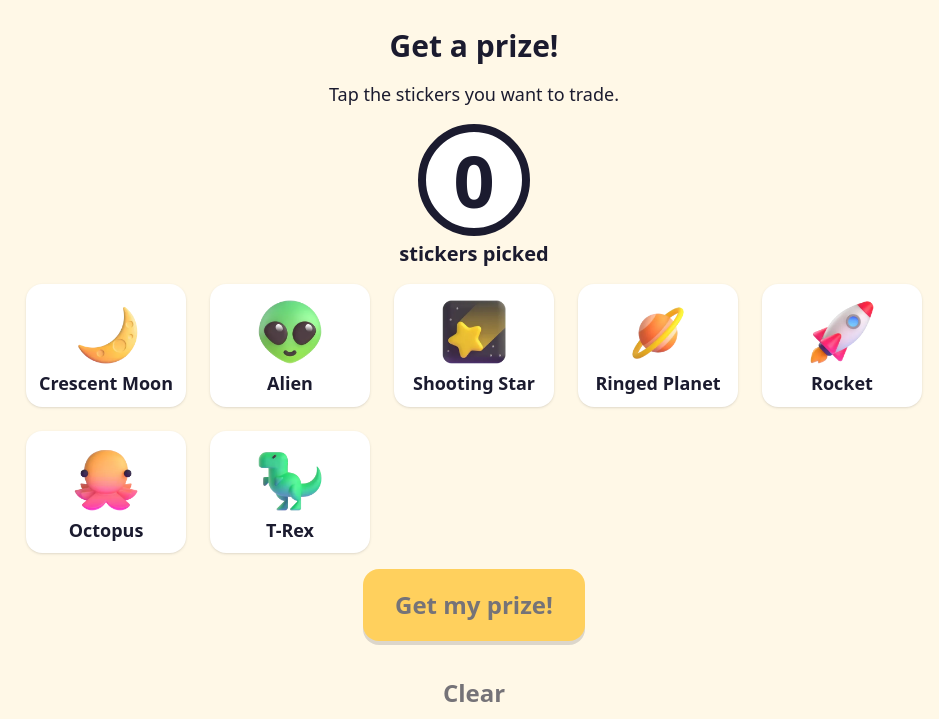
Test: GetPrizeScreen › submits and shows the waiting view
Click the button "Crescent Moon" at x=106, y=345, box [26,284,186,406]
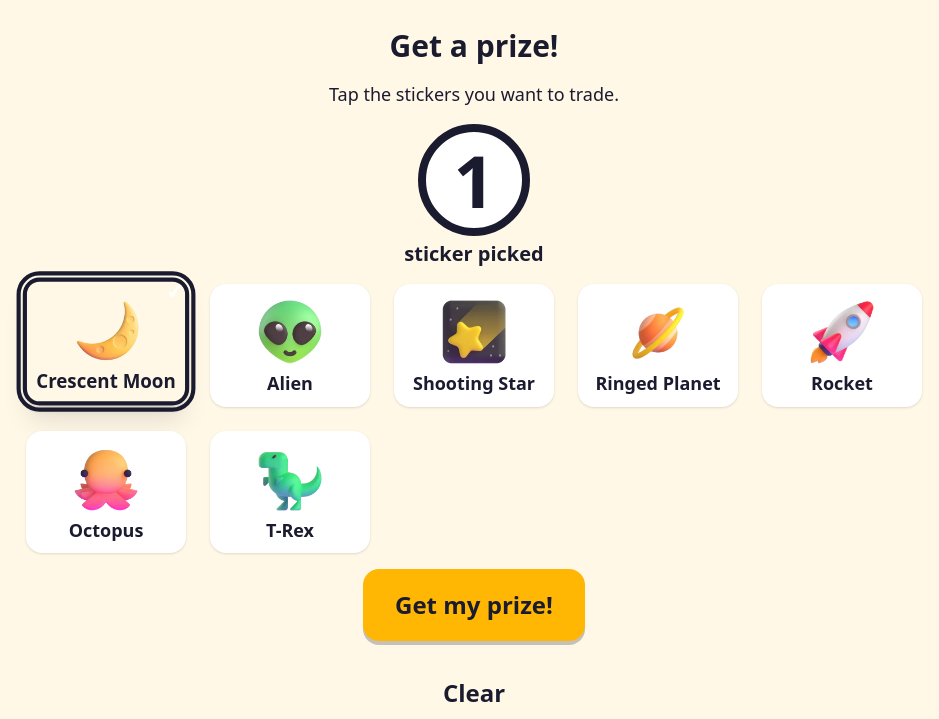
Click the button "Get my prize!" at x=474, y=605, box [363,569,585,641]
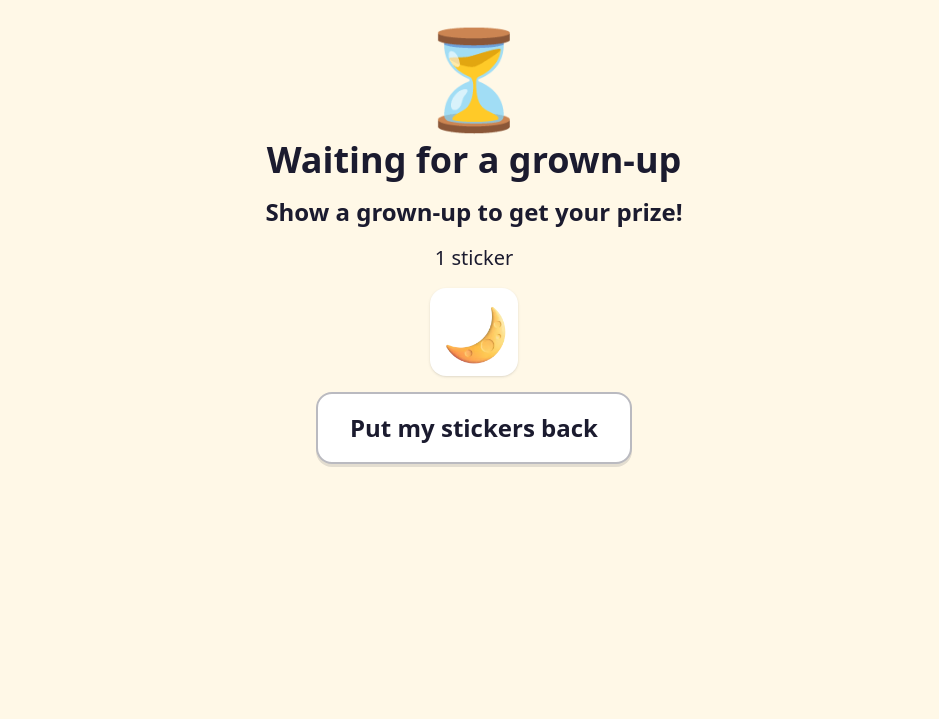
Check: the heading "Waiting for a grown-up" is shown, box [267,140,681,180]
Check: the text "Show a grown-up to get your prize!" is shown, box [265,196,683,228]
